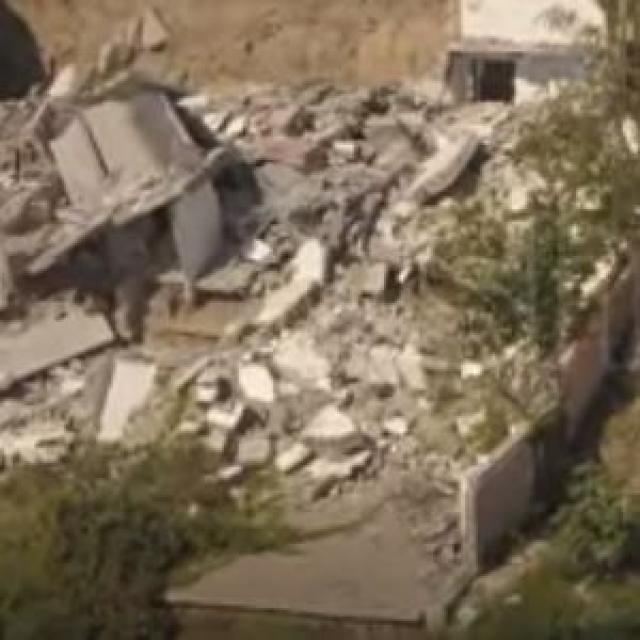collapsed_building: (0, 81, 514, 484)
